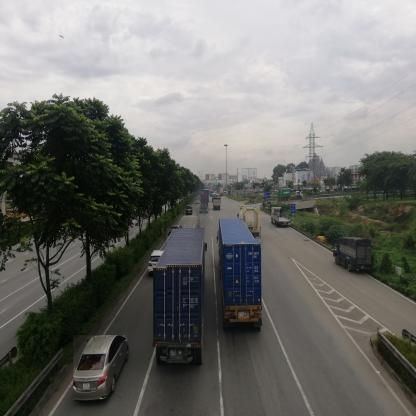car: (75, 336, 128, 403), (150, 252, 161, 270), (186, 206, 193, 216)
container: (167, 230, 205, 366), (219, 220, 262, 333), (241, 207, 261, 240), (278, 191, 306, 204), (202, 195, 209, 214)
truck: (334, 240, 372, 270), (271, 209, 291, 230), (214, 197, 221, 213)
